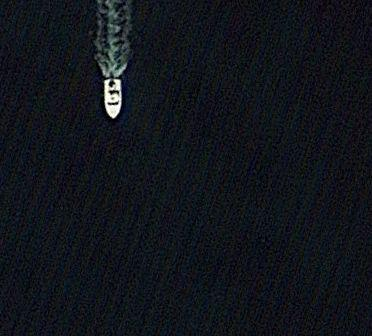Ships: (95, 75, 134, 118)
